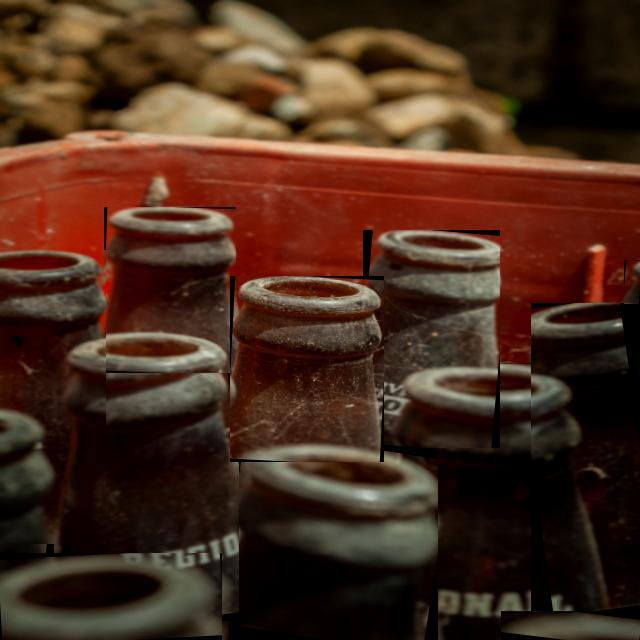Bottle: (63, 335, 238, 620), (403, 364, 584, 639), (229, 444, 438, 639), (532, 304, 639, 610), (0, 251, 106, 543), (364, 231, 500, 447), (230, 277, 384, 462), (105, 208, 235, 373), (0, 554, 222, 639), (0, 410, 53, 564), (502, 611, 639, 639), (625, 261, 639, 304)
